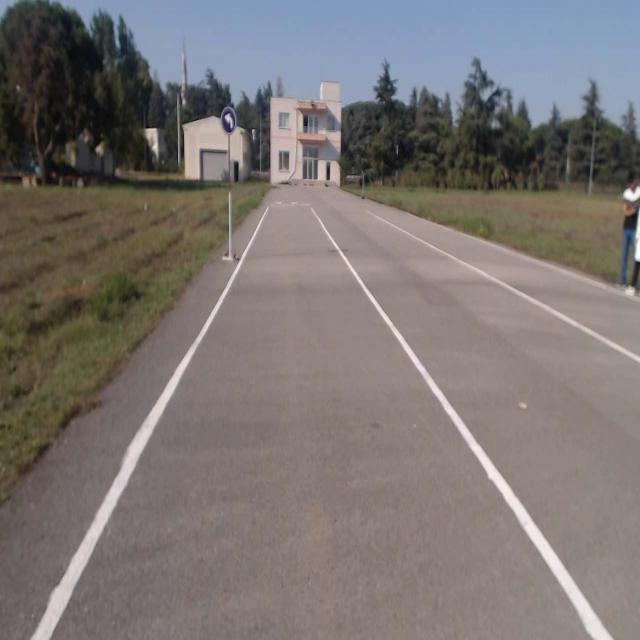sol: (221, 107, 236, 134)
